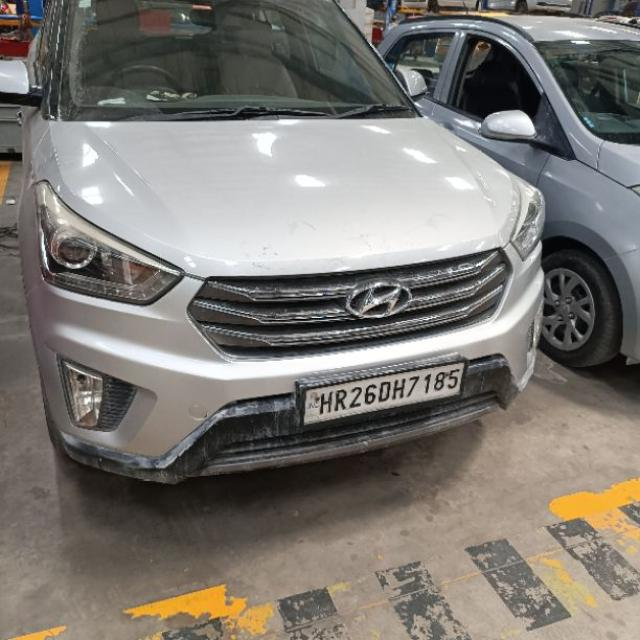license_plate: (296, 358, 466, 428)
